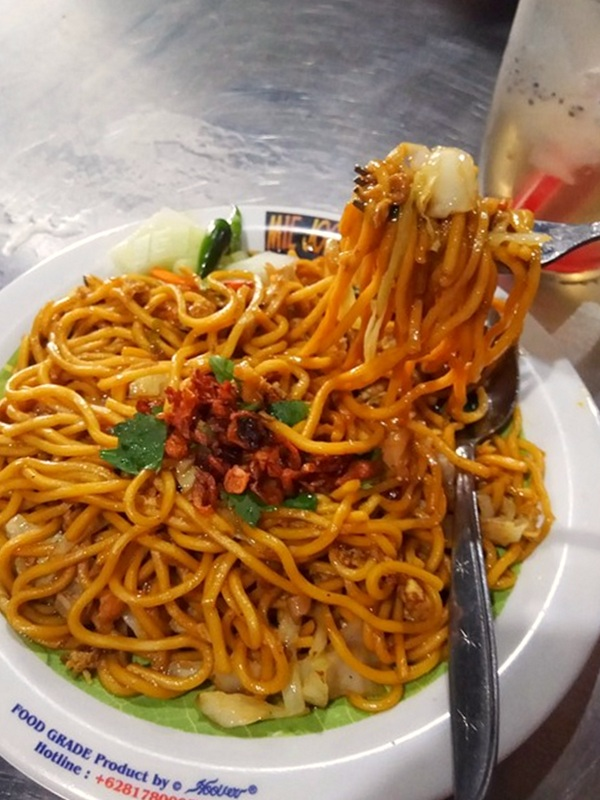Mie Goreng: (40, 201, 507, 665)
